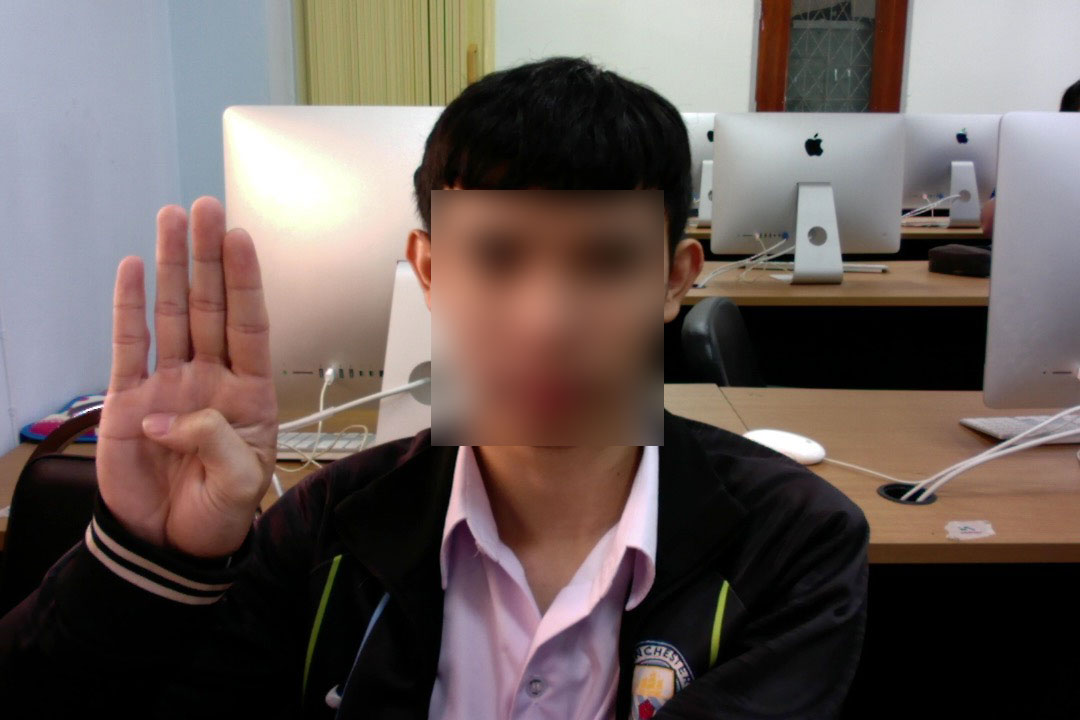bor: (83, 186, 287, 628)
